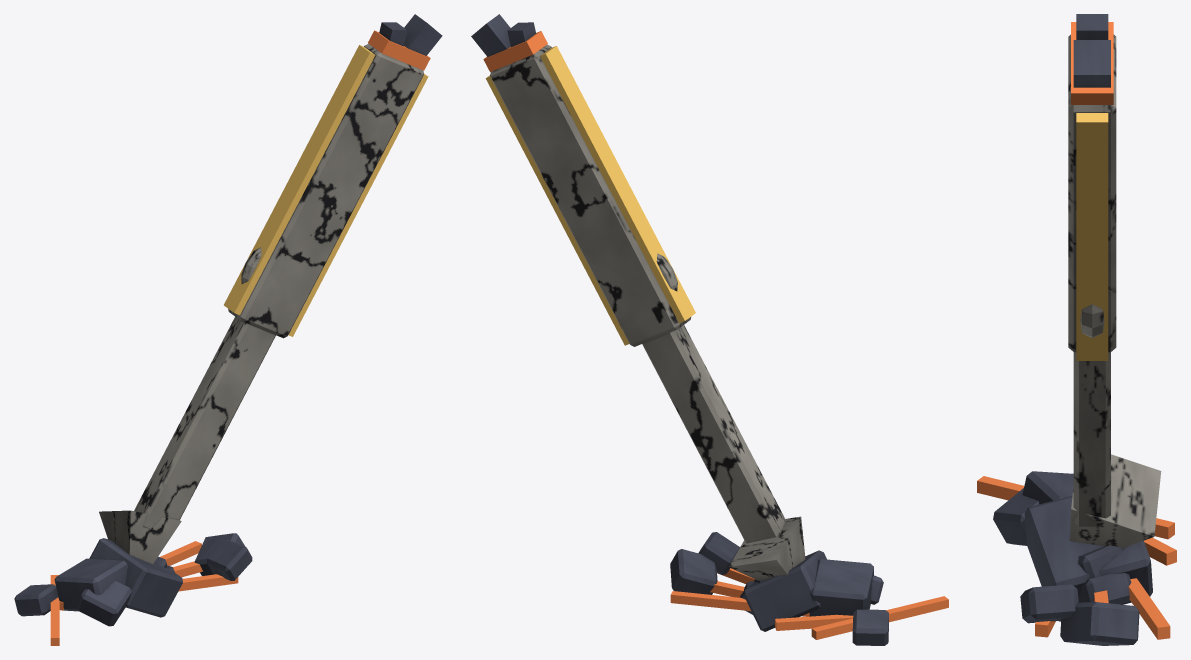
File: BG_Needle_Fallen.obj
The picture shows the model from 3 angles, left to right: view 1: azimuth 30°, elevation 25°; view 2: azimuth 150°, elevation 25°; view 3: azimuth 270°, elevation 25°; orthographic projection. The views are drawn at different scales.
Visible parts, largest first — view 1: BG_Needle_Fallen; view 2: BG_Needle_Fallen; view 3: BG_Needle_Fallen.
Part boxes in pixels (box(x1,y1,x2,y2)): BG_Needle_Fallen: box(14, 14, 442, 645); BG_Needle_Fallen: box(471, 14, 948, 645); BG_Needle_Fallen: box(977, 14, 1176, 645).
Bounding box in the file's own units: 0.8416 × 1 × 0.2327.
1 material, 1 textured.
